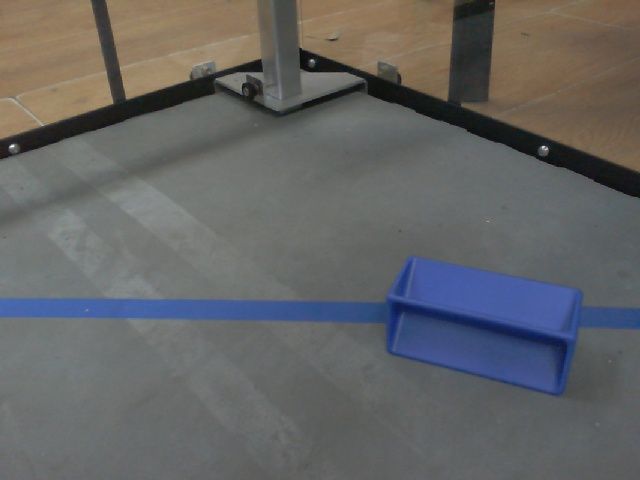BlueSample: (382, 251, 586, 406)
